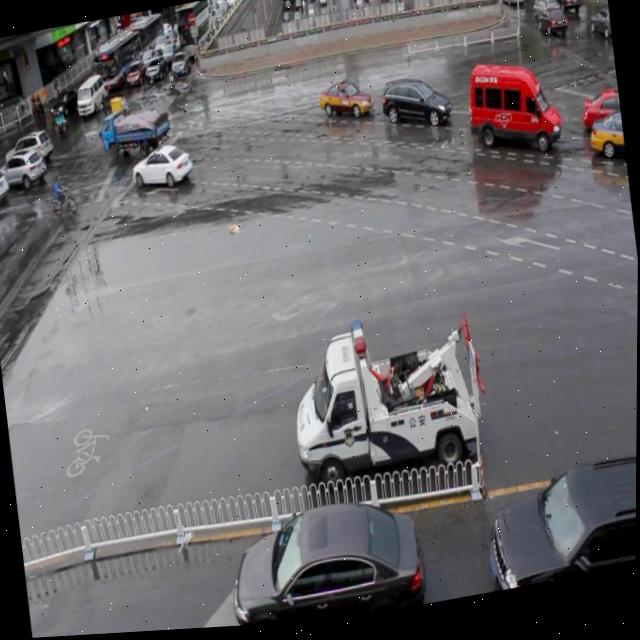bus: (284, 303, 495, 506), (99, 104, 173, 164)
car: (223, 492, 427, 629), (482, 455, 637, 597), (380, 76, 453, 142), (129, 141, 194, 195), (317, 79, 373, 128), (580, 92, 622, 141), (586, 119, 626, 170)
truck: (460, 55, 564, 172)
